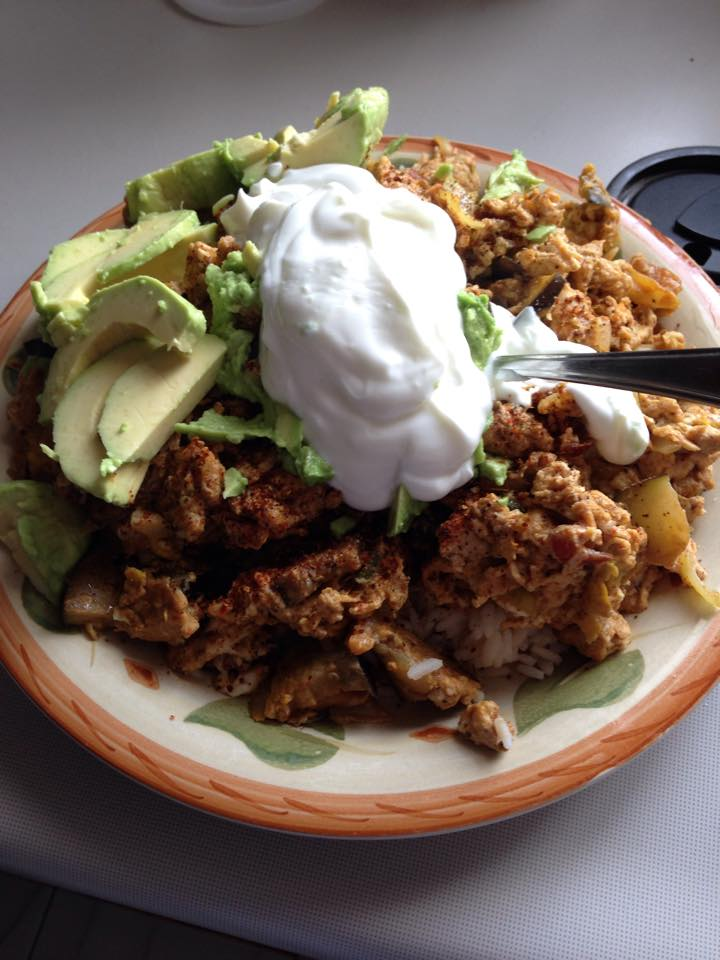chopped lettuce: (199, 276, 254, 418)
